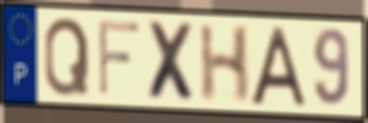9: (310, 25, 351, 112)
A: (247, 24, 310, 110)
F: (96, 17, 143, 99)
H: (197, 23, 253, 105)
Q: (42, 15, 92, 99)
X: (145, 18, 200, 106)
